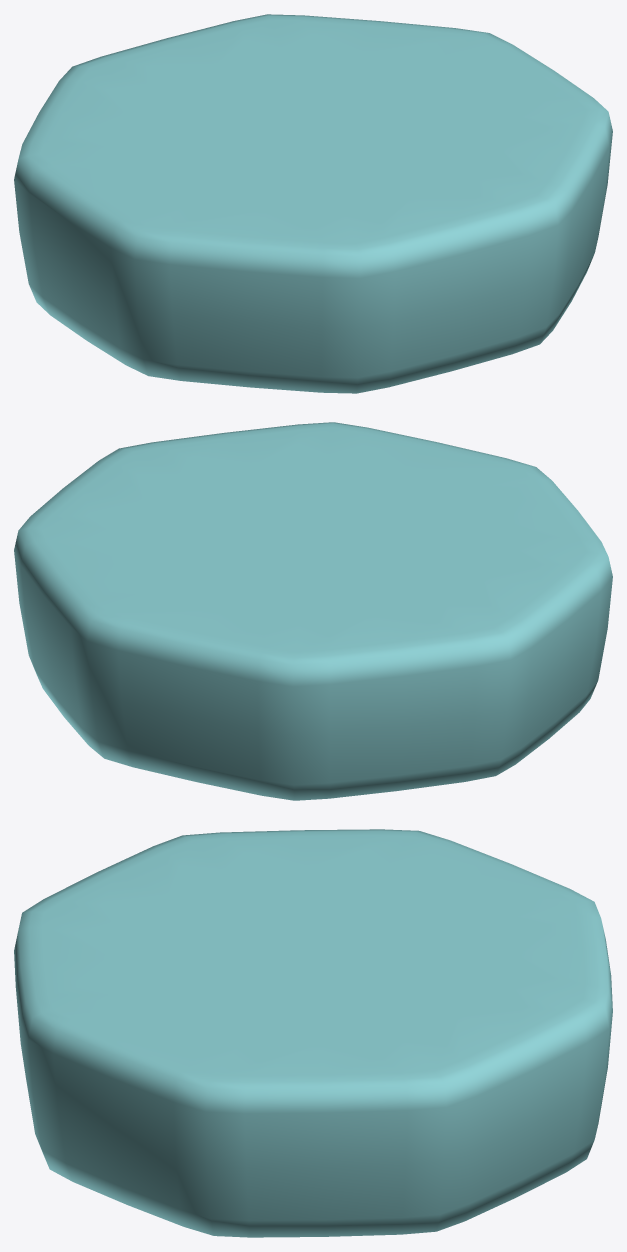
The model's file is elevation_02.fbx.
3 renders of one model, top to bottom at view 1: azimuth 30°, elevation 25°; view 2: azimuth 150°, elevation 25°; view 3: azimuth 270°, elevation 25°, orthographic. The views are drawn at different scales.
Visible parts, largest first — view 1: Sphere013; view 2: Sphere013; view 3: Sphere013.
Part boxes in pixels (x1,y1,x2,y2): Sphere013: (14,14,612,393); Sphere013: (14,422,612,800); Sphere013: (14,829,612,1237).
Bounding box in the file's own units: 697 × 199 × 666.
